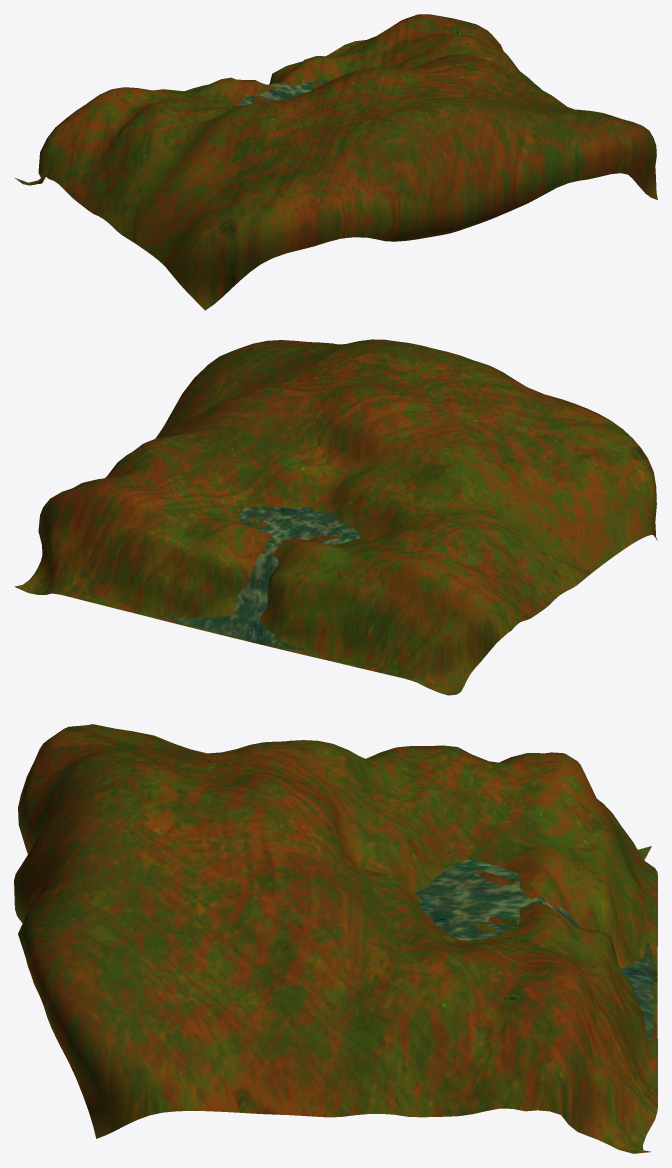
3 views of the same model, one above another, from view 1: azimuth 30°, elevation 25°; view 2: azimuth 150°, elevation 25°; view 3: azimuth 270°, elevation 25° (orthographic). The views are drawn at different scales.
Visible parts, largest first — view 1: 山, 平面; view 2: 山, 平面; view 3: 山, 平面.
Boxes of the visible parts, x1,y1,x2,y2 form: 山: (14, 14, 657, 310); 平面: (239, 79, 328, 106); 山: (14, 339, 657, 695); 平面: (165, 507, 359, 650); 山: (14, 724, 657, 1153); 平面: (414, 860, 653, 1039).
Size of the model in its own units: 2124 by 673 by 1750.
Materials: 2 (2 with a texture image).
